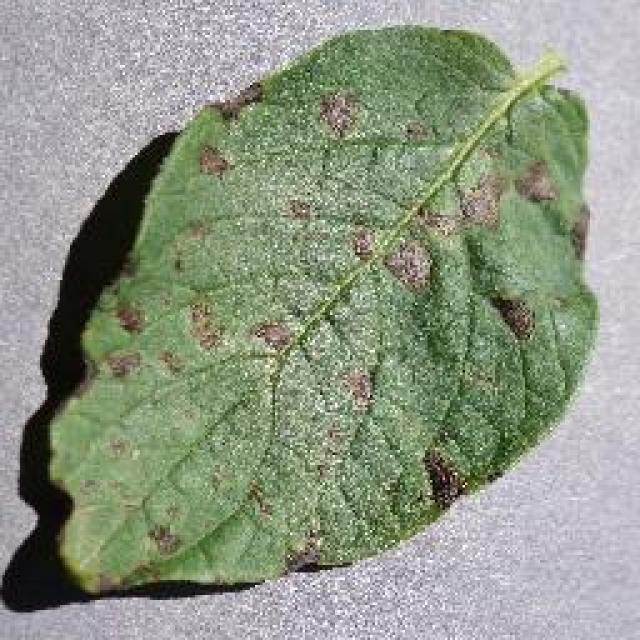Potato___Early_blight: (40, 24, 605, 602)
